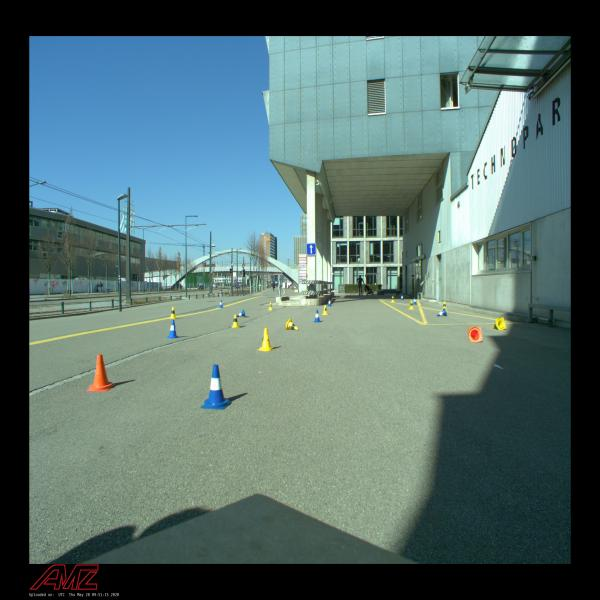blue_cone: (201, 364, 232, 410), (166, 320, 180, 338), (437, 308, 447, 317), (314, 310, 321, 322), (236, 309, 246, 317), (219, 300, 224, 308), (327, 299, 332, 306), (413, 298, 417, 305), (400, 295, 404, 300)
orange_cone: (87, 354, 115, 391), (468, 326, 482, 342)
yellow_cone: (257, 328, 275, 351), (492, 317, 507, 330), (285, 319, 299, 330), (231, 314, 240, 328), (169, 307, 177, 319), (322, 305, 328, 315), (408, 300, 414, 310), (268, 302, 274, 310), (442, 302, 447, 310), (391, 296, 395, 303)
